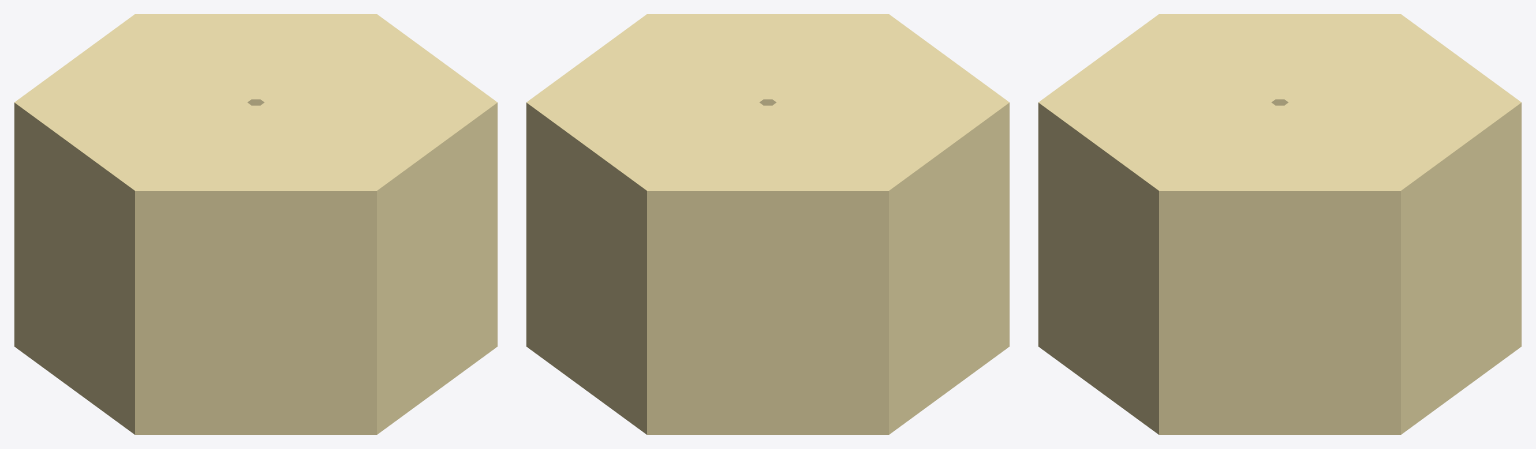
The model's file is candle-001.glb.
3 renders of one model, left to right at view 1: azimuth 30°, elevation 25°; view 2: azimuth 150°, elevation 25°; view 3: azimuth 270°, elevation 25°, orthographic.
Parts seen in each view (by area): view 1: candle.001; view 2: candle.001; view 3: candle.001.
Part boxes in pixels (x1,y1,x2,y2): candle.001: (14, 14, 497, 434); candle.001: (526, 14, 1009, 434); candle.001: (1038, 14, 1521, 434).
Size of the model in its own units: 1.73 by 1.11 by 2.
